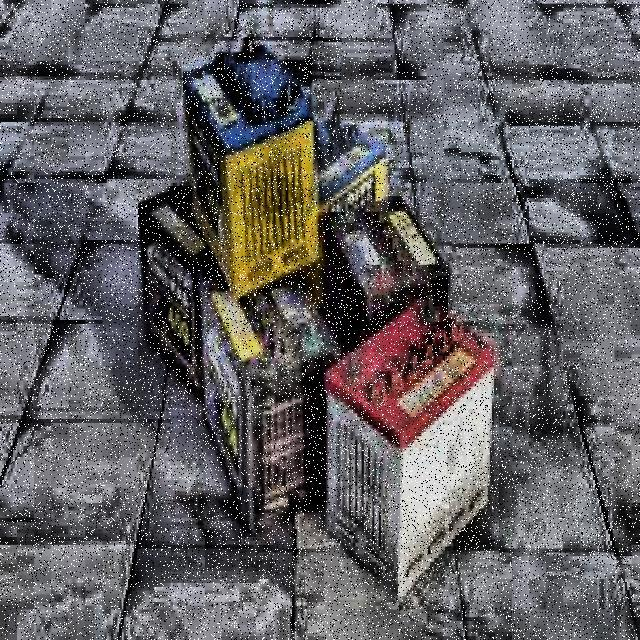B3: (135, 39, 507, 616)
